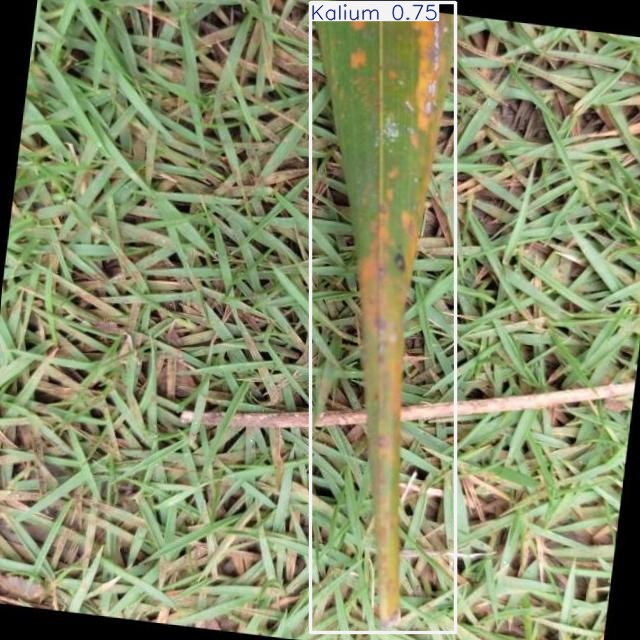Kalium: (311, 2, 456, 633)
